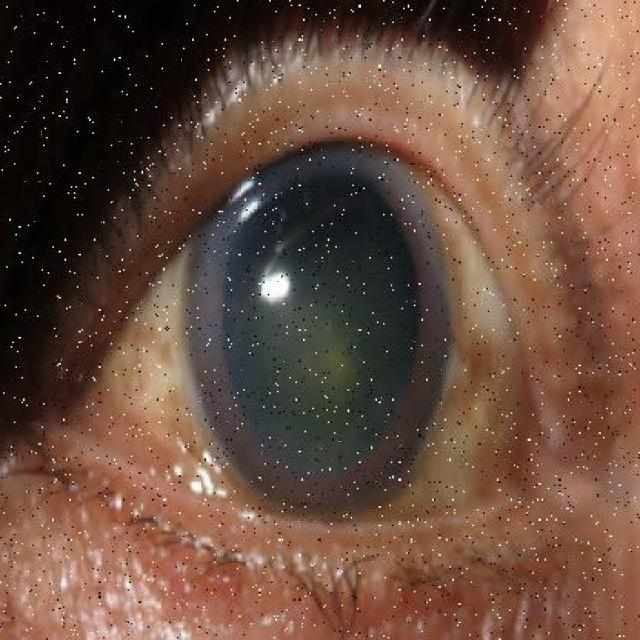Cataract: (153, 116, 505, 552)
